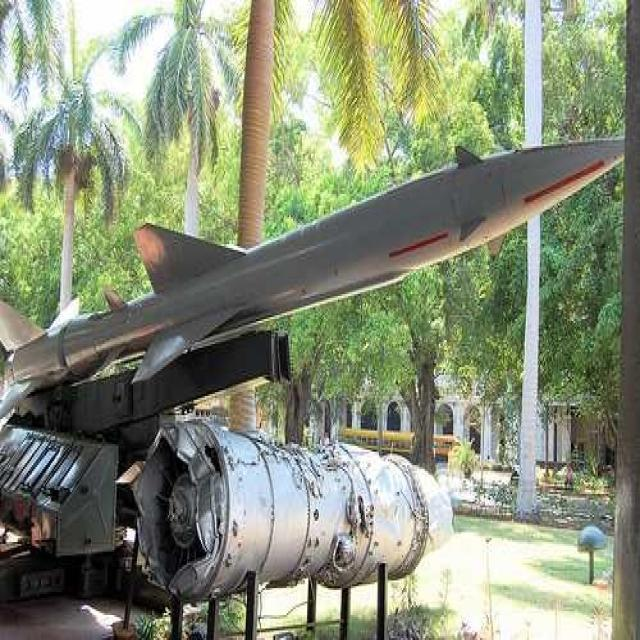missile: (2, 126, 625, 407)
